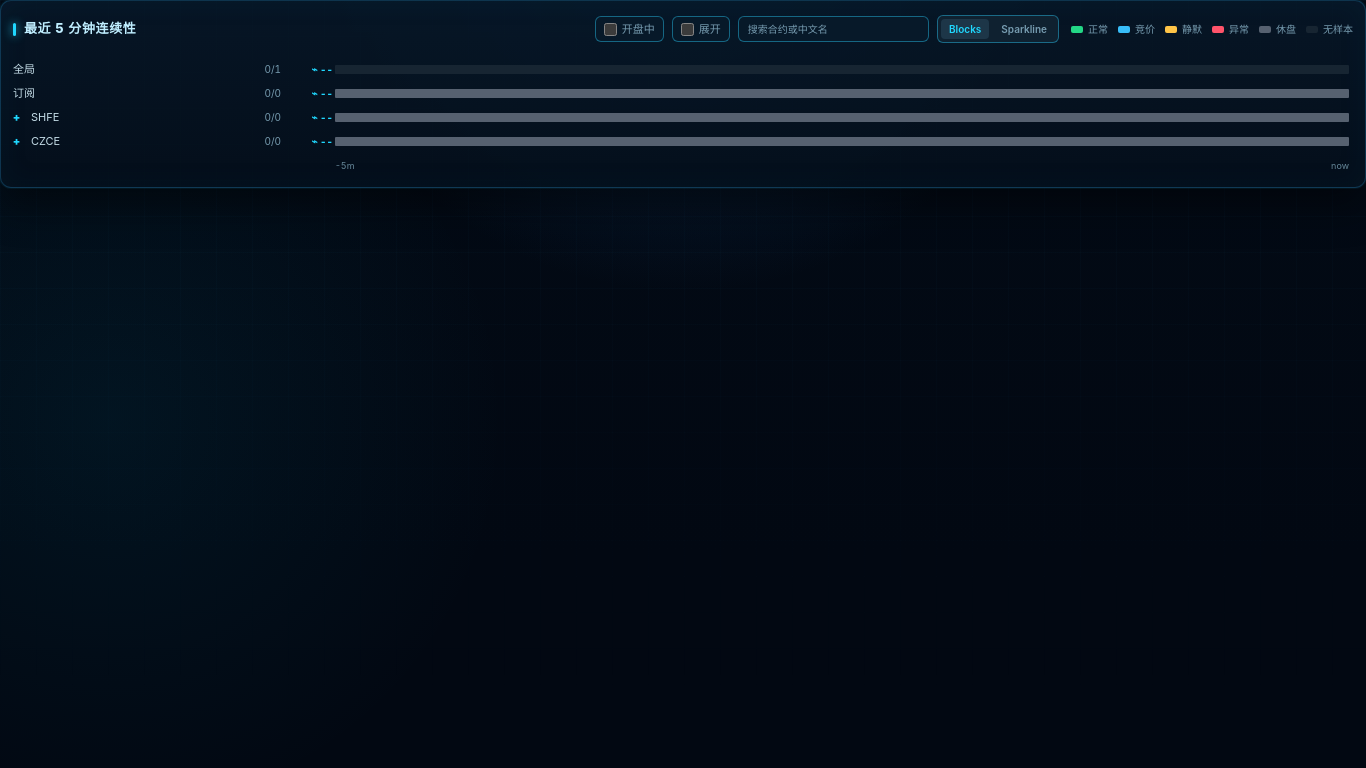
Test: ContinuityTimeline › keeps initializing open-session symbols visible behind the open filter
What coordinates should you click on to do the following:
click the checkbox named "只看开盘中品种"
I would click on:
 (610, 29)
Its box is [604,22,617,36].
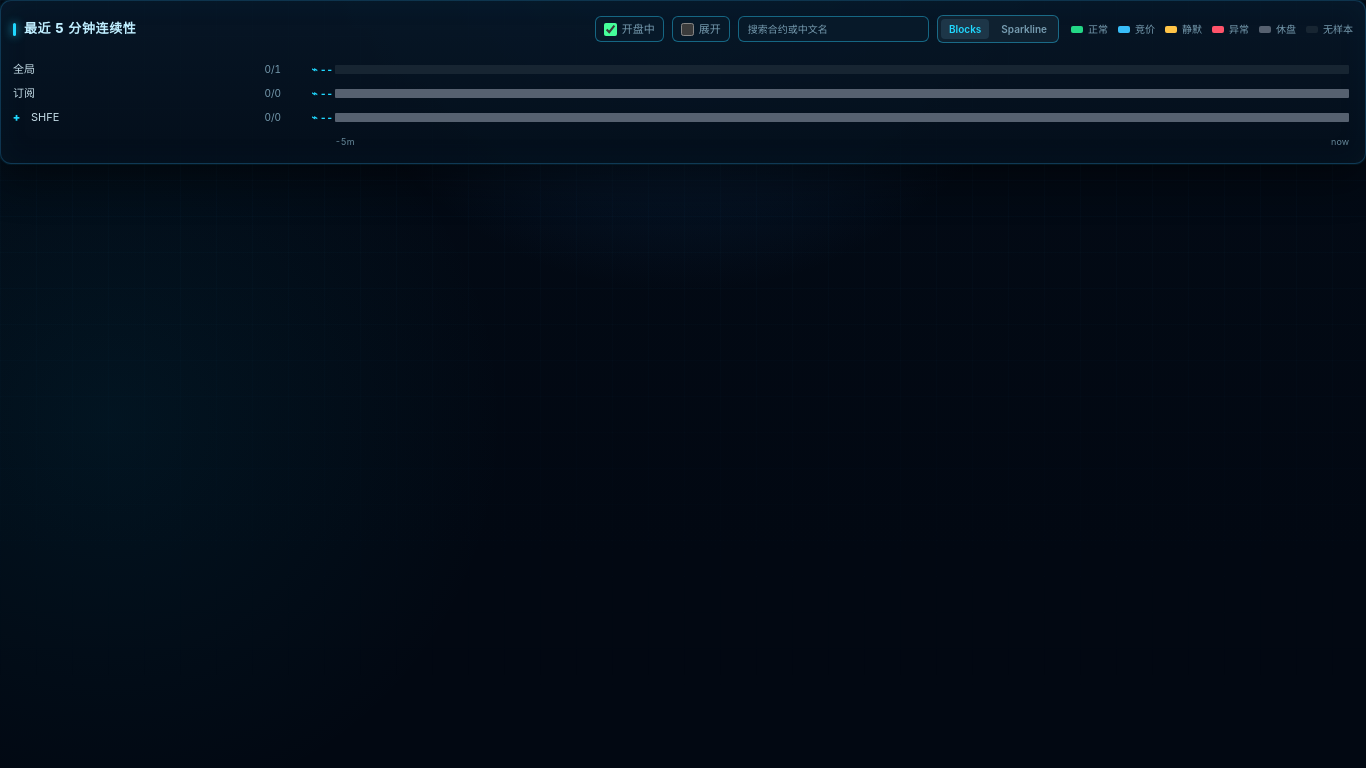
What coordinates should you click on to do the following:
click the button "+ SHFE 0/0 ⌁ --"
I would click on:
 (17, 117)
Its box is [13,109,333,125].
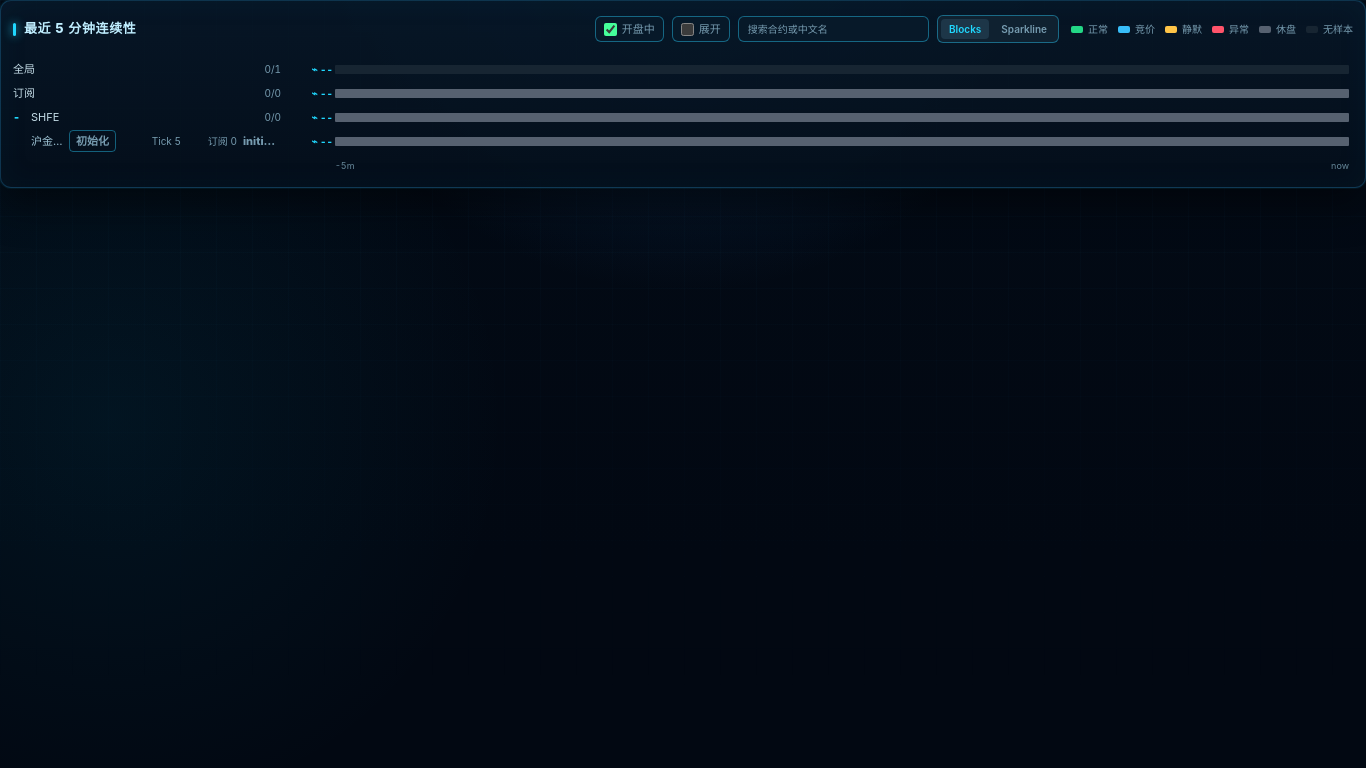
Check: the button "CZCE" is not shown
Check: the text "沪金2602" is shown, box [31,133,63,149]
